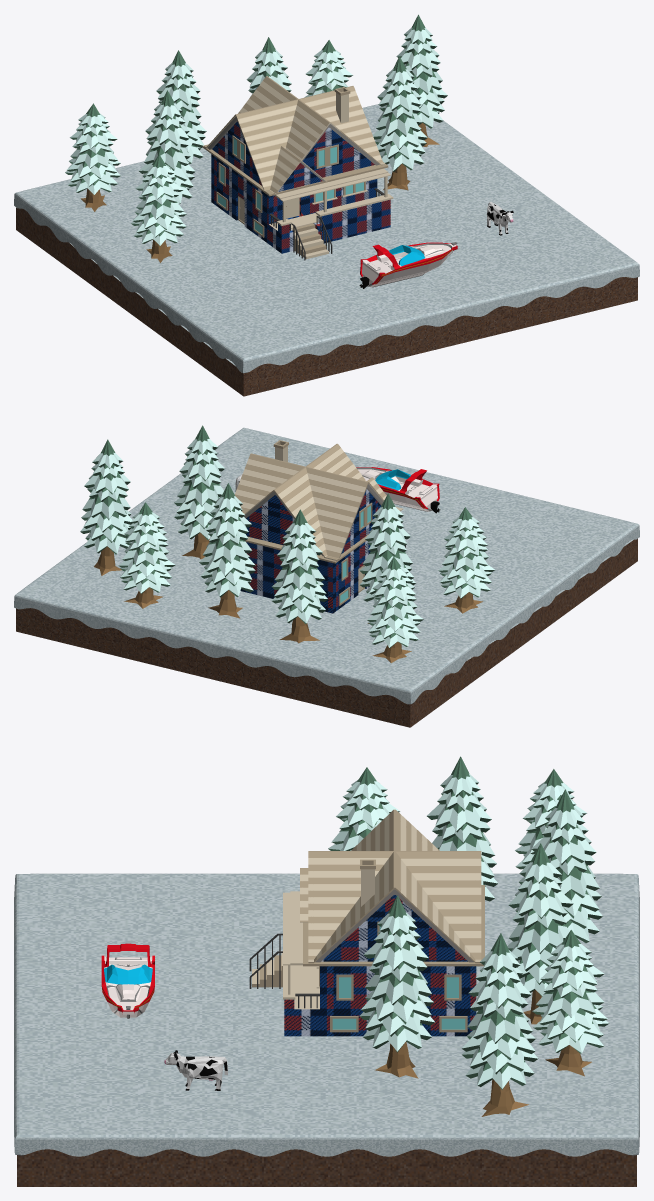
3 views of the same model, one above another, from view 1: azimuth 30°, elevation 25°; view 2: azimuth 150°, elevation 25°; view 3: azimuth 270°, elevation 25° (orthographic). The views are drawn at different scales.
Visible parts, largest first — view 1: Cube.003, Cube.171, VEHICLES_BOAT, ANIMAL_VACA; view 2: Cube.003, Cube.171, VEHICLES_BOAT; view 3: Cube.003, Cube.171, VEHICLES_BOAT, ANIMAL_VACA.
Boxes of the visible parts, <box> form: Cube.003: <box>14,14,639,396</box>; Cube.171: <box>202,76,393,260</box>; VEHICLES_BOAT: <box>359,242,457,288</box>; ANIMAL_VACA: <box>486,202,513,235</box>; Cube.003: <box>14,425,639,727</box>; Cube.171: <box>234,440,405,613</box>; VEHICLES_BOAT: <box>356,467,440,513</box>; Cube.003: <box>14,756,639,1186</box>; Cube.171: <box>249,809,484,1036</box>; VEHICLES_BOAT: <box>101,943,154,1018</box>; ANIMAL_VACA: <box>164,1050,227,1090</box>.
Size of the model in its own units: 4040 by 1793 by 4040.
Materials: 22 (4 with a texture image).
